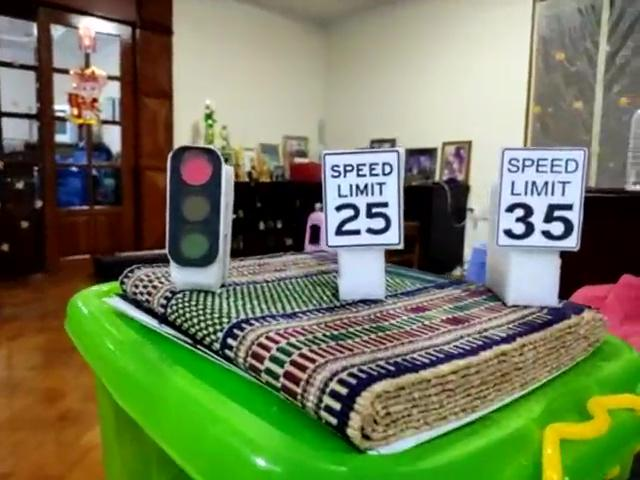Red Traffic Light: (165, 144, 224, 269)
Speed Limit 25: (320, 148, 403, 250)
Speed Limit 35: (496, 144, 590, 250)
